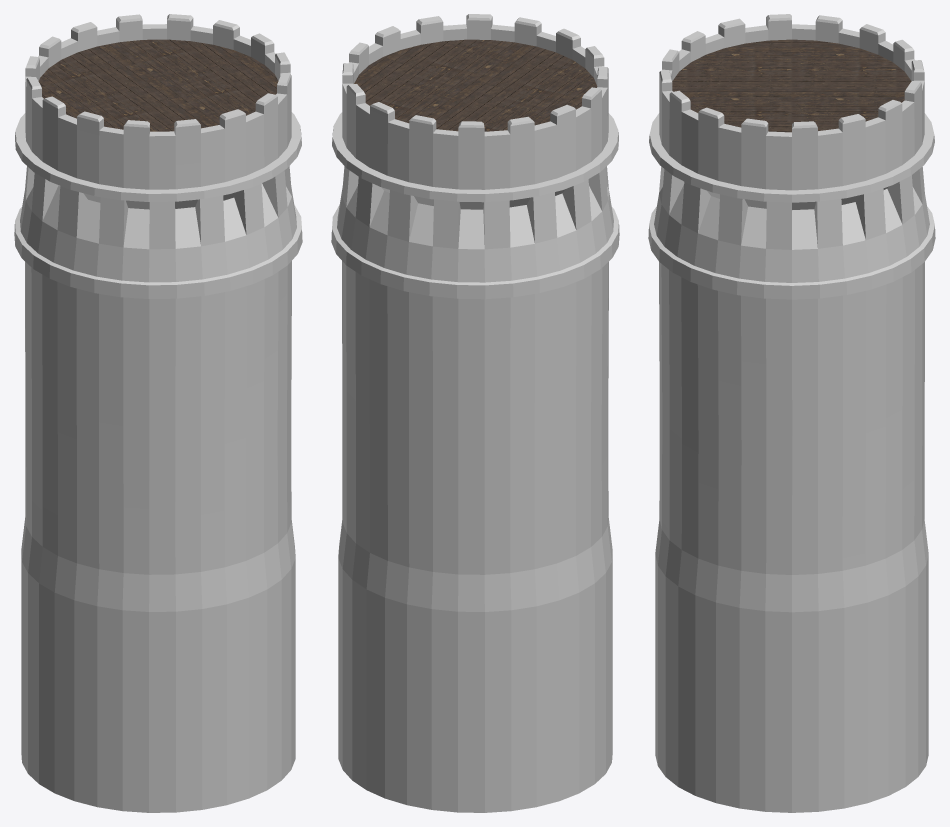
File: Tower-1.fbx
3 renders of one model, left to right at view 1: azimuth 30°, elevation 25°; view 2: azimuth 150°, elevation 25°; view 3: azimuth 270°, elevation 25°, orthographic.
Visible parts, largest first — view 1: VezaGulataTypA; view 2: VezaGulataTypA; view 3: VezaGulataTypA.
Part boxes in pixels (left/top/right/bottom): VezaGulataTypA: left=14, top=14, right=302, bottom=812; VezaGulataTypA: left=331, top=14, right=619, bottom=812; VezaGulataTypA: left=648, top=14, right=935, bottom=812.
Bounding box in the file's own units: 1494 × 3905 × 1484.
